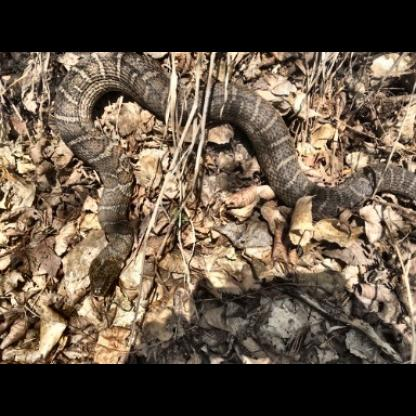Snake: (3, 52, 154, 356)
